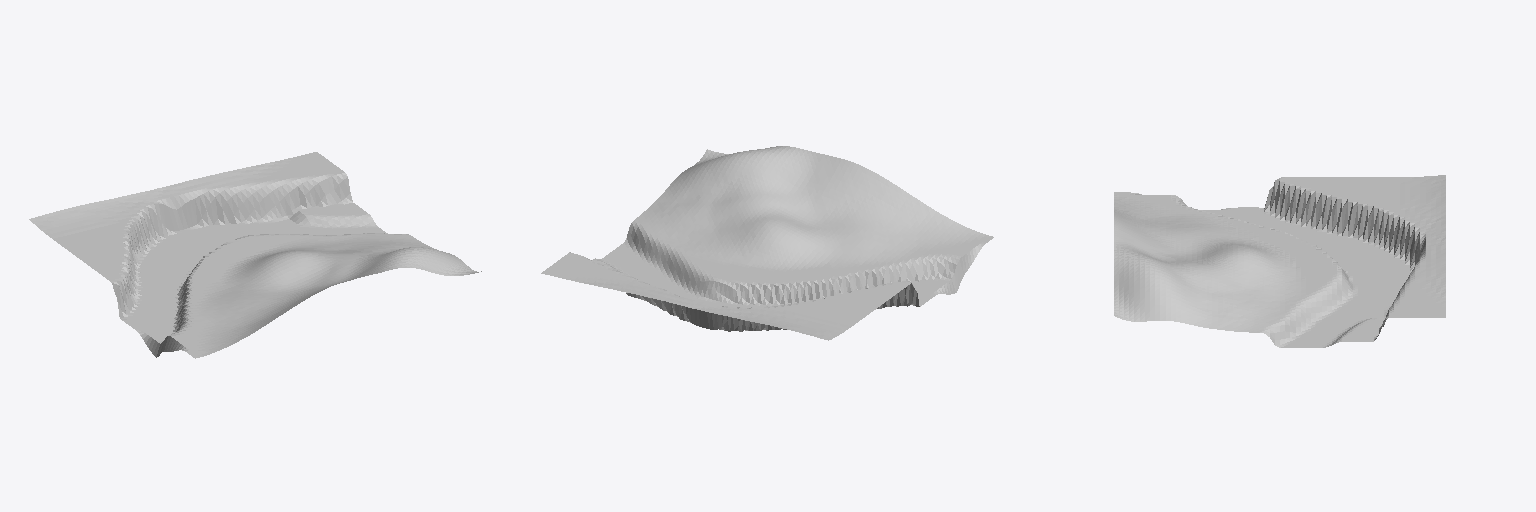
File: SM_Terrain_Tuto2Chunk2.1.obj
The picture shows the model from 3 angles: view 1: azimuth 30°, elevation 25°; view 2: azimuth 150°, elevation 25°; view 3: azimuth 270°, elevation 25°; orthographic projection.
Size of the model in its own units: 100 by 22.72 by 100.